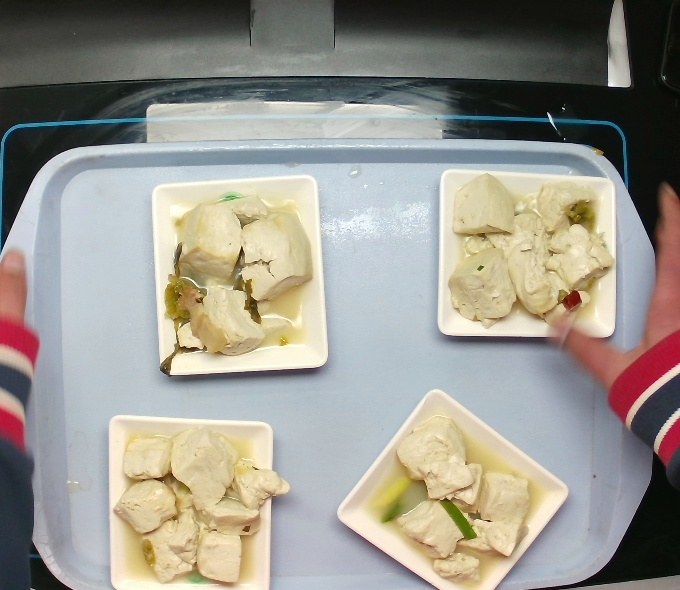wcq-LuDouFu: (155, 191, 320, 378), (108, 427, 293, 590), (379, 416, 542, 586), (447, 175, 610, 335)
